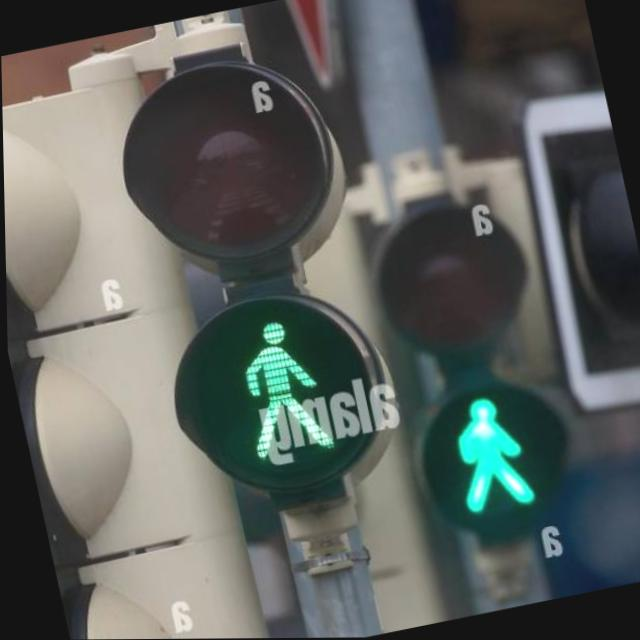green_light: (211, 295, 360, 474)
